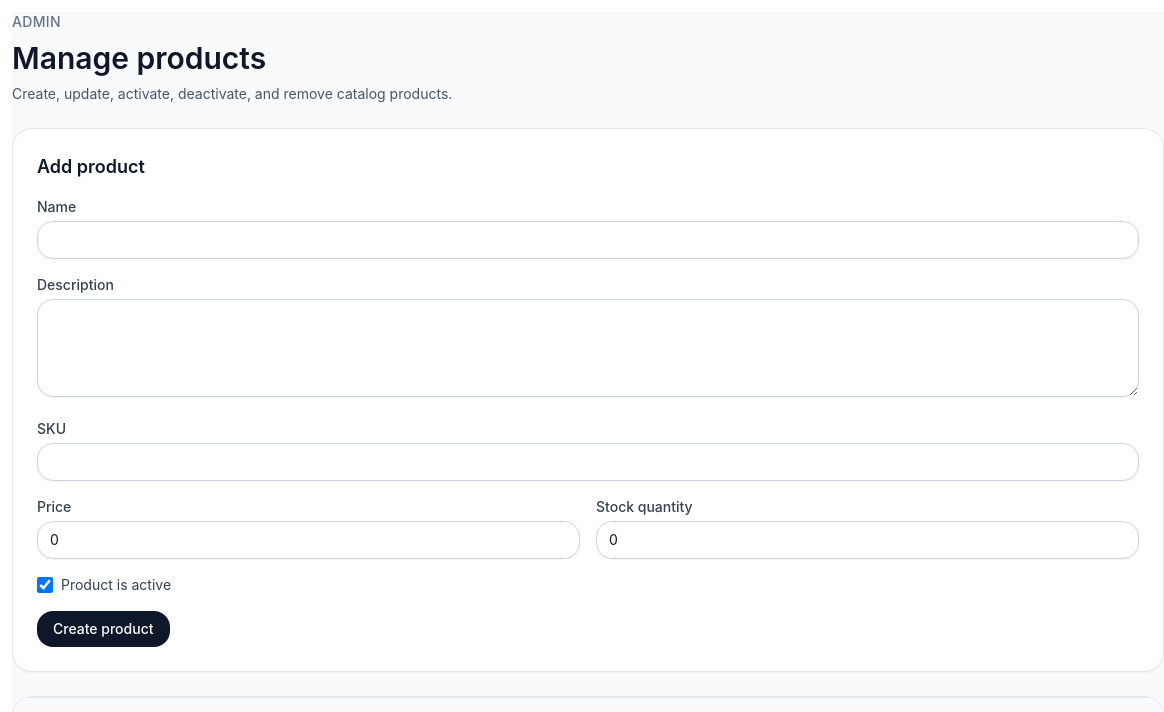
it: AdminProductsPage › creates a product from the admin form
The width and height of the screenshot is (1164, 712).
Type "USB Hub" into the field labelled "Name" at (588, 240), box [37,221,1139,259]
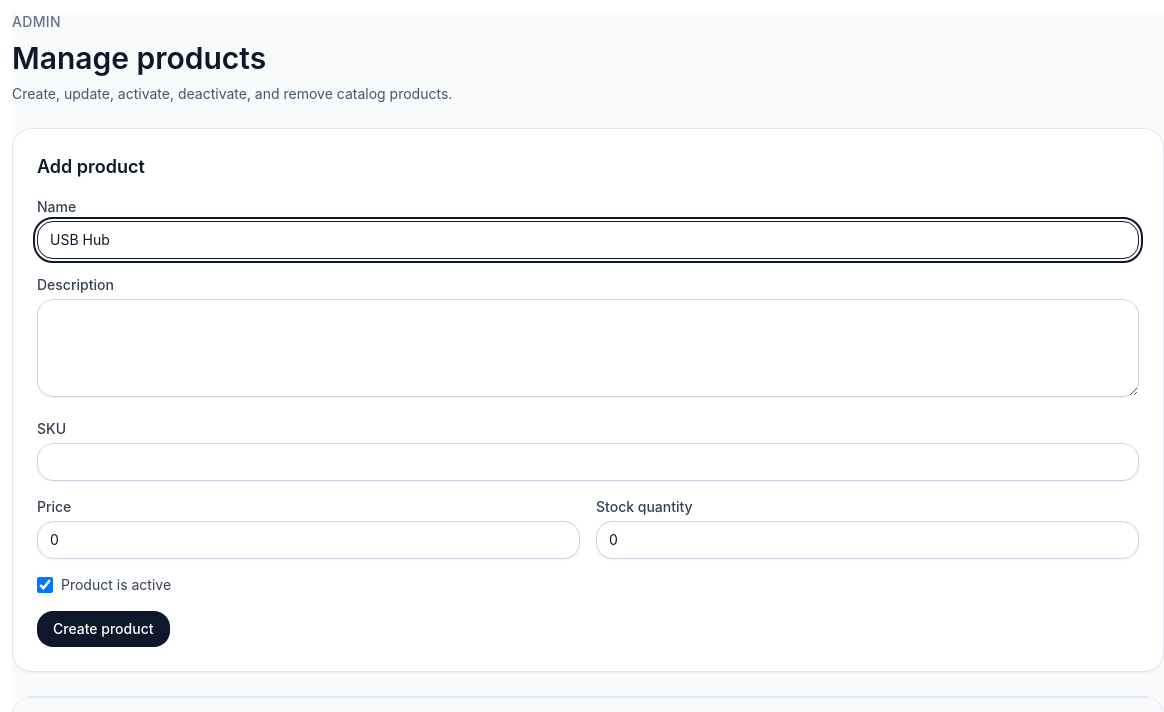
Type "UH-001" into the field labelled "SKU" at (588, 462), box [37,443,1139,481]
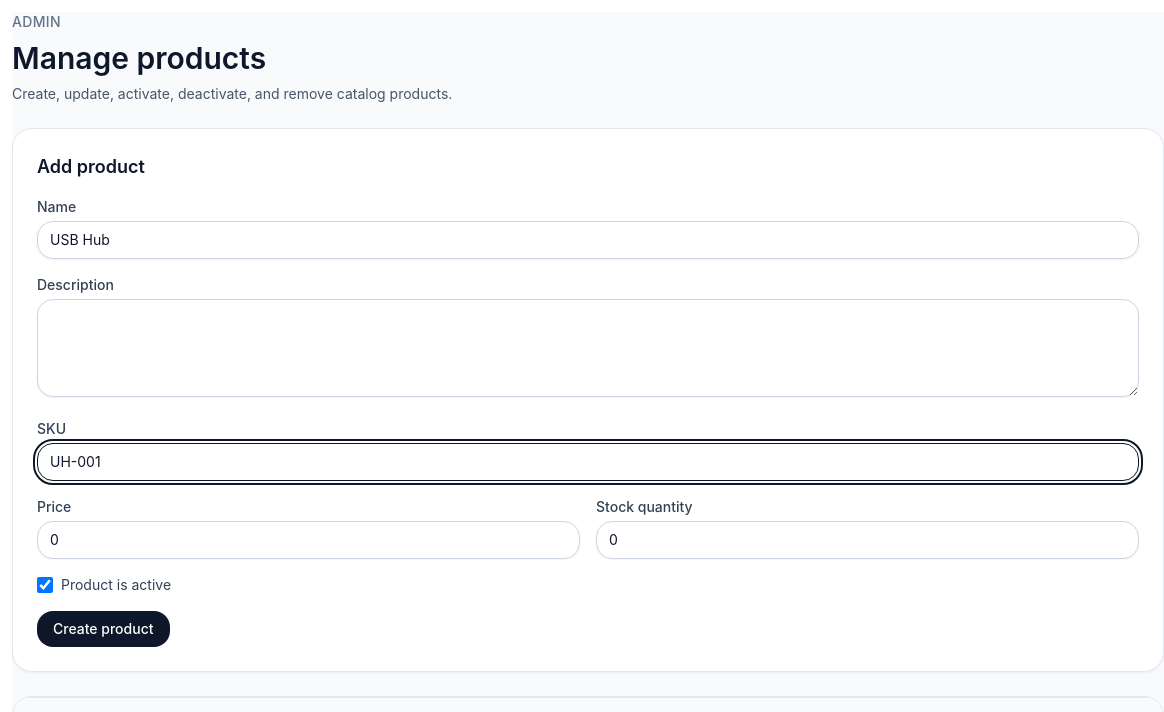
Replace the text in the number field labelled "Price" with "19.99" at (308, 540), box [37,521,580,559]
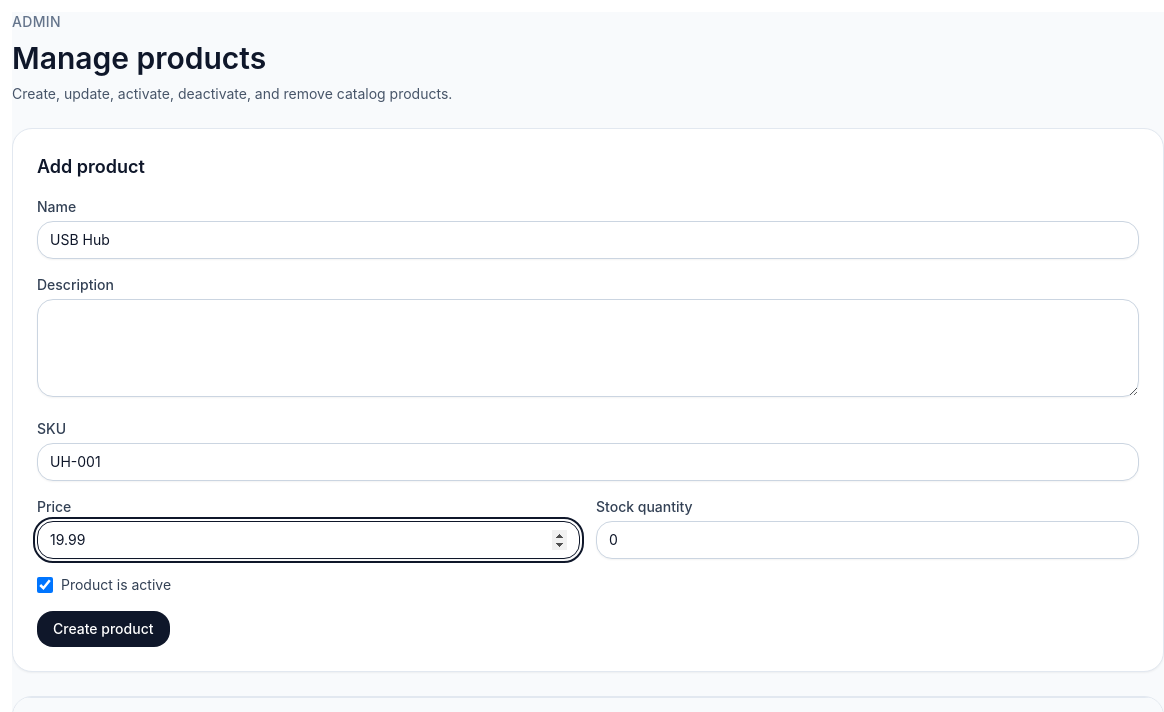
Click the button "Create product" at (103, 629), box [37,611,170,647]
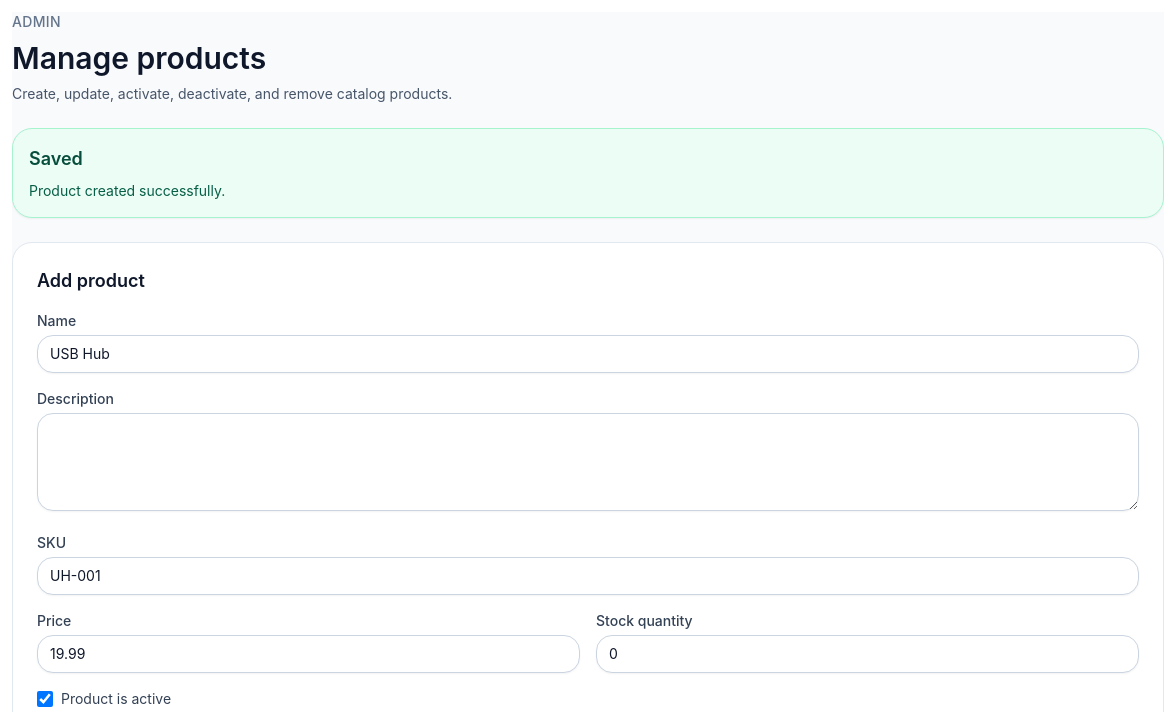
Expected: the text "Product created successfully." is shown, [29,182,225,199]
